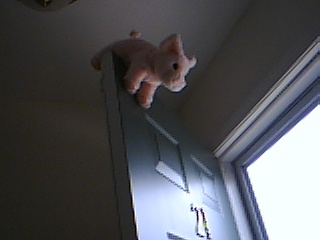piggy: (90, 28, 200, 109)
